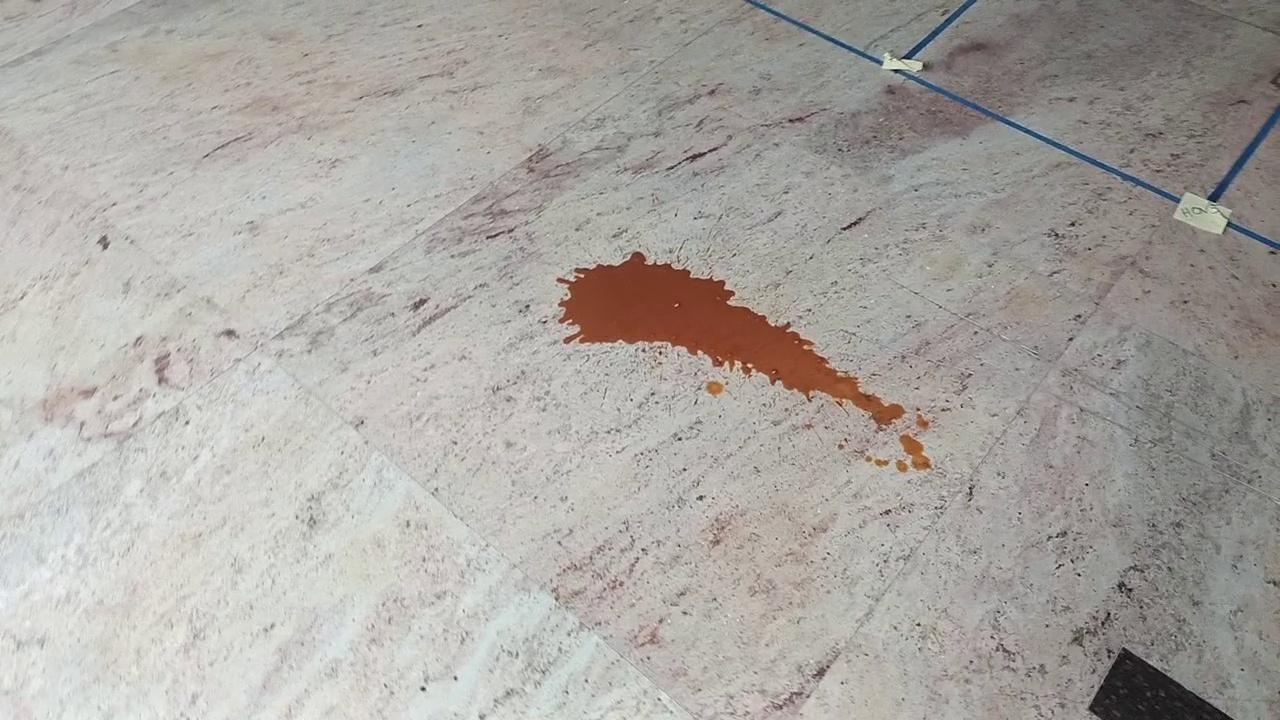dirty_floor: (555, 250, 932, 472)
